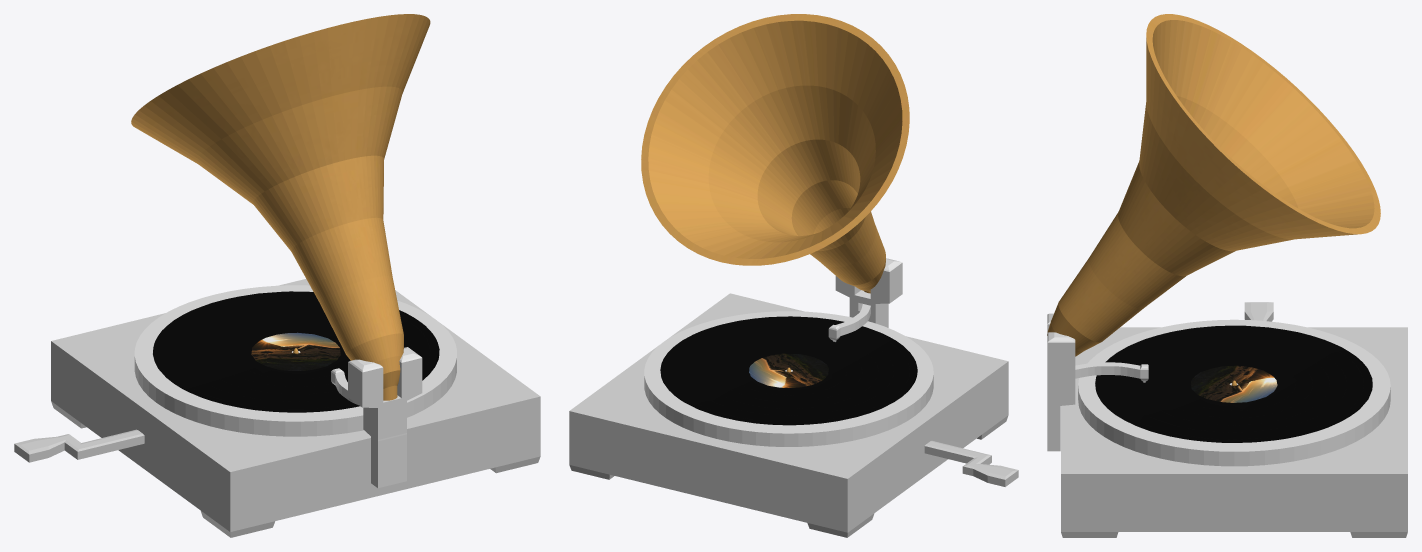
The model's file is tourne_disque.fbx.
3 views of the same model, side by side, from view 1: azimuth 30°, elevation 25°; view 2: azimuth 150°, elevation 25°; view 3: azimuth 270°, elevation 25° (orthographic). The views are drawn at different scales.
Parts seen in each view (by area): view 1: Cylinder.001, Cube, Vinyl disk.001, Cylinder, Cube.001; view 2: Cylinder.001, Cube, Vinyl disk.001, Cylinder, Cube.001, Cube.002; view 3: Cylinder.001, Cube, Vinyl disk.001, Cylinder, Cube.001, Cube.002.
Boxes of the visible parts, x1,y1,x2,y2 form: Cylinder.001: (131, 14, 430, 400); Cube: (14, 279, 540, 537); Vinyl disk.001: (153, 291, 439, 412); Cylinder: (134, 285, 456, 436); Cube.001: (348, 347, 422, 488); Cylinder.001: (641, 14, 909, 293); Cube: (569, 293, 1018, 537); Vinyl disk.001: (660, 316, 917, 425); Cylinder: (644, 311, 933, 446); Cube.001: (835, 258, 902, 327); Cube.002: (828, 304, 870, 341); Cylinder.001: (1047, 14, 1380, 356); Cube: (1061, 302, 1407, 537); Vinyl disk.001: (1095, 325, 1372, 442); Cylinder: (1078, 319, 1390, 466); Cube.001: (1047, 313, 1075, 451); Cube.002: (1075, 362, 1148, 382).
Bounding box in the file's own units: 268 × 274 × 208.
7 materials, 4 textured.
